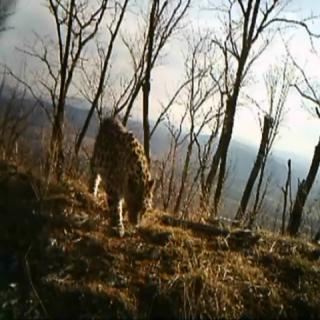Leopard: (90, 85, 174, 250)
